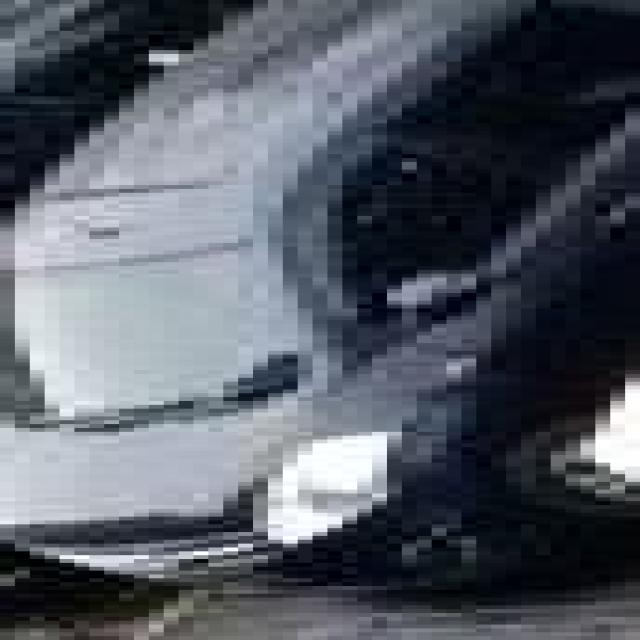Car: (37, 31, 640, 634)
